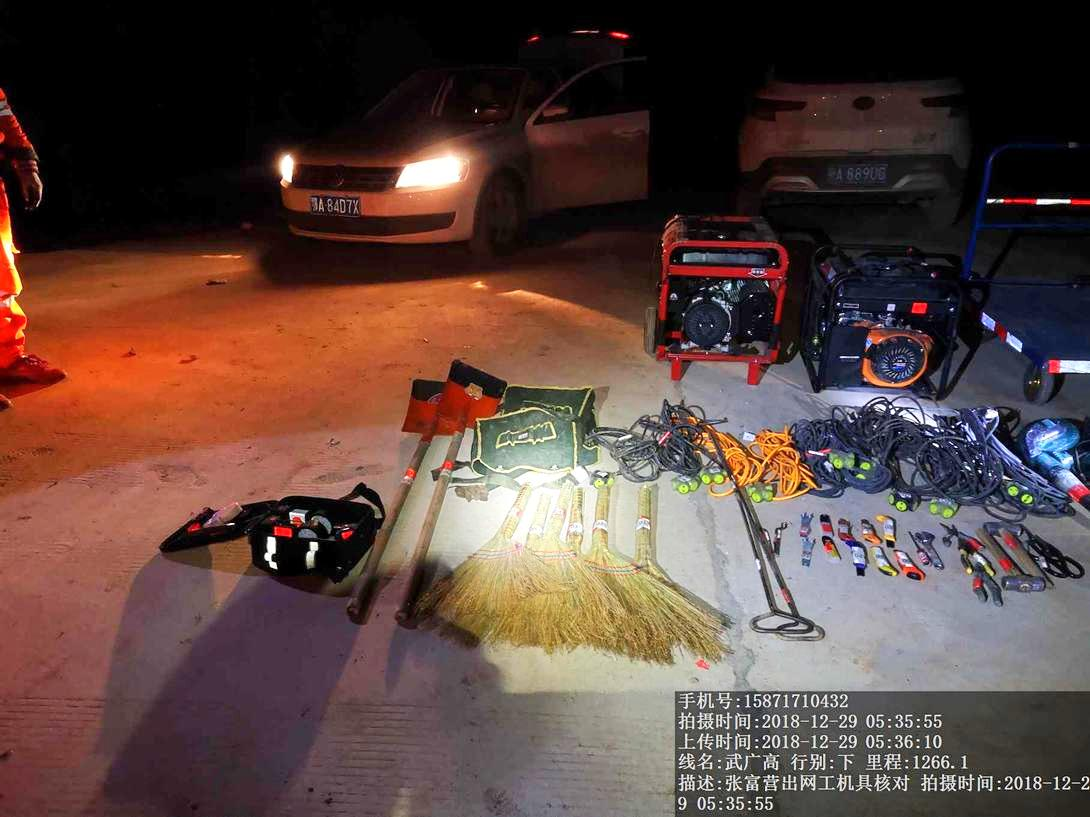DJ: (640, 199, 796, 391), (795, 221, 959, 398)
DX: (693, 427, 759, 498), (760, 429, 820, 498)
GFJ: (1023, 415, 1090, 501)
GJB: (151, 486, 389, 588), (466, 410, 601, 476), (495, 381, 598, 409)
SB: (415, 484, 559, 634), (583, 482, 634, 583)
TC: (973, 133, 1090, 395)
TQ: (349, 379, 460, 565)
